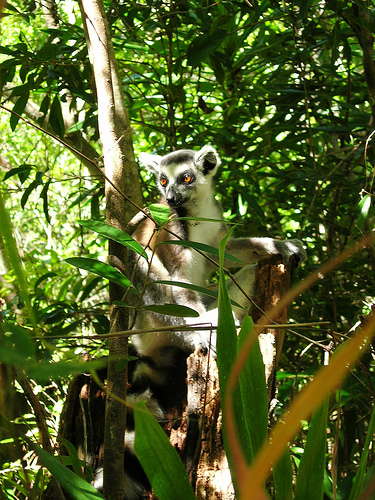cat: (131, 130, 303, 383)
